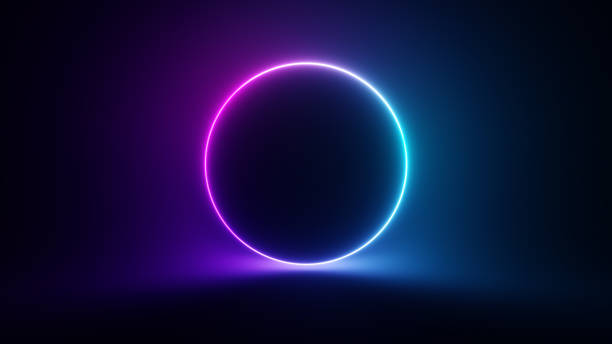daire: (199, 60, 412, 267)
